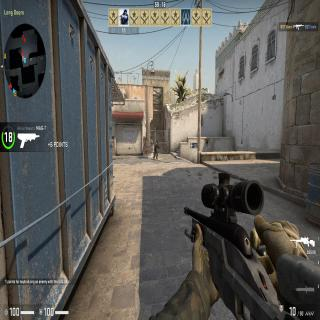T-Body: (153, 140, 159, 160)
T-Head: (156, 141, 158, 144)
